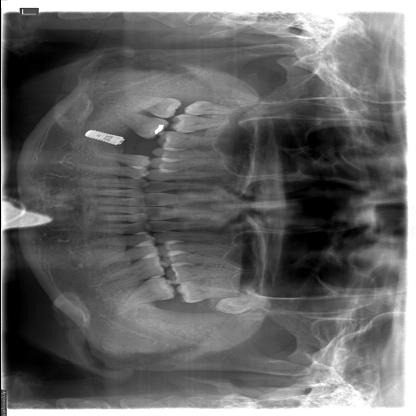ITI: (78, 129, 130, 147)
